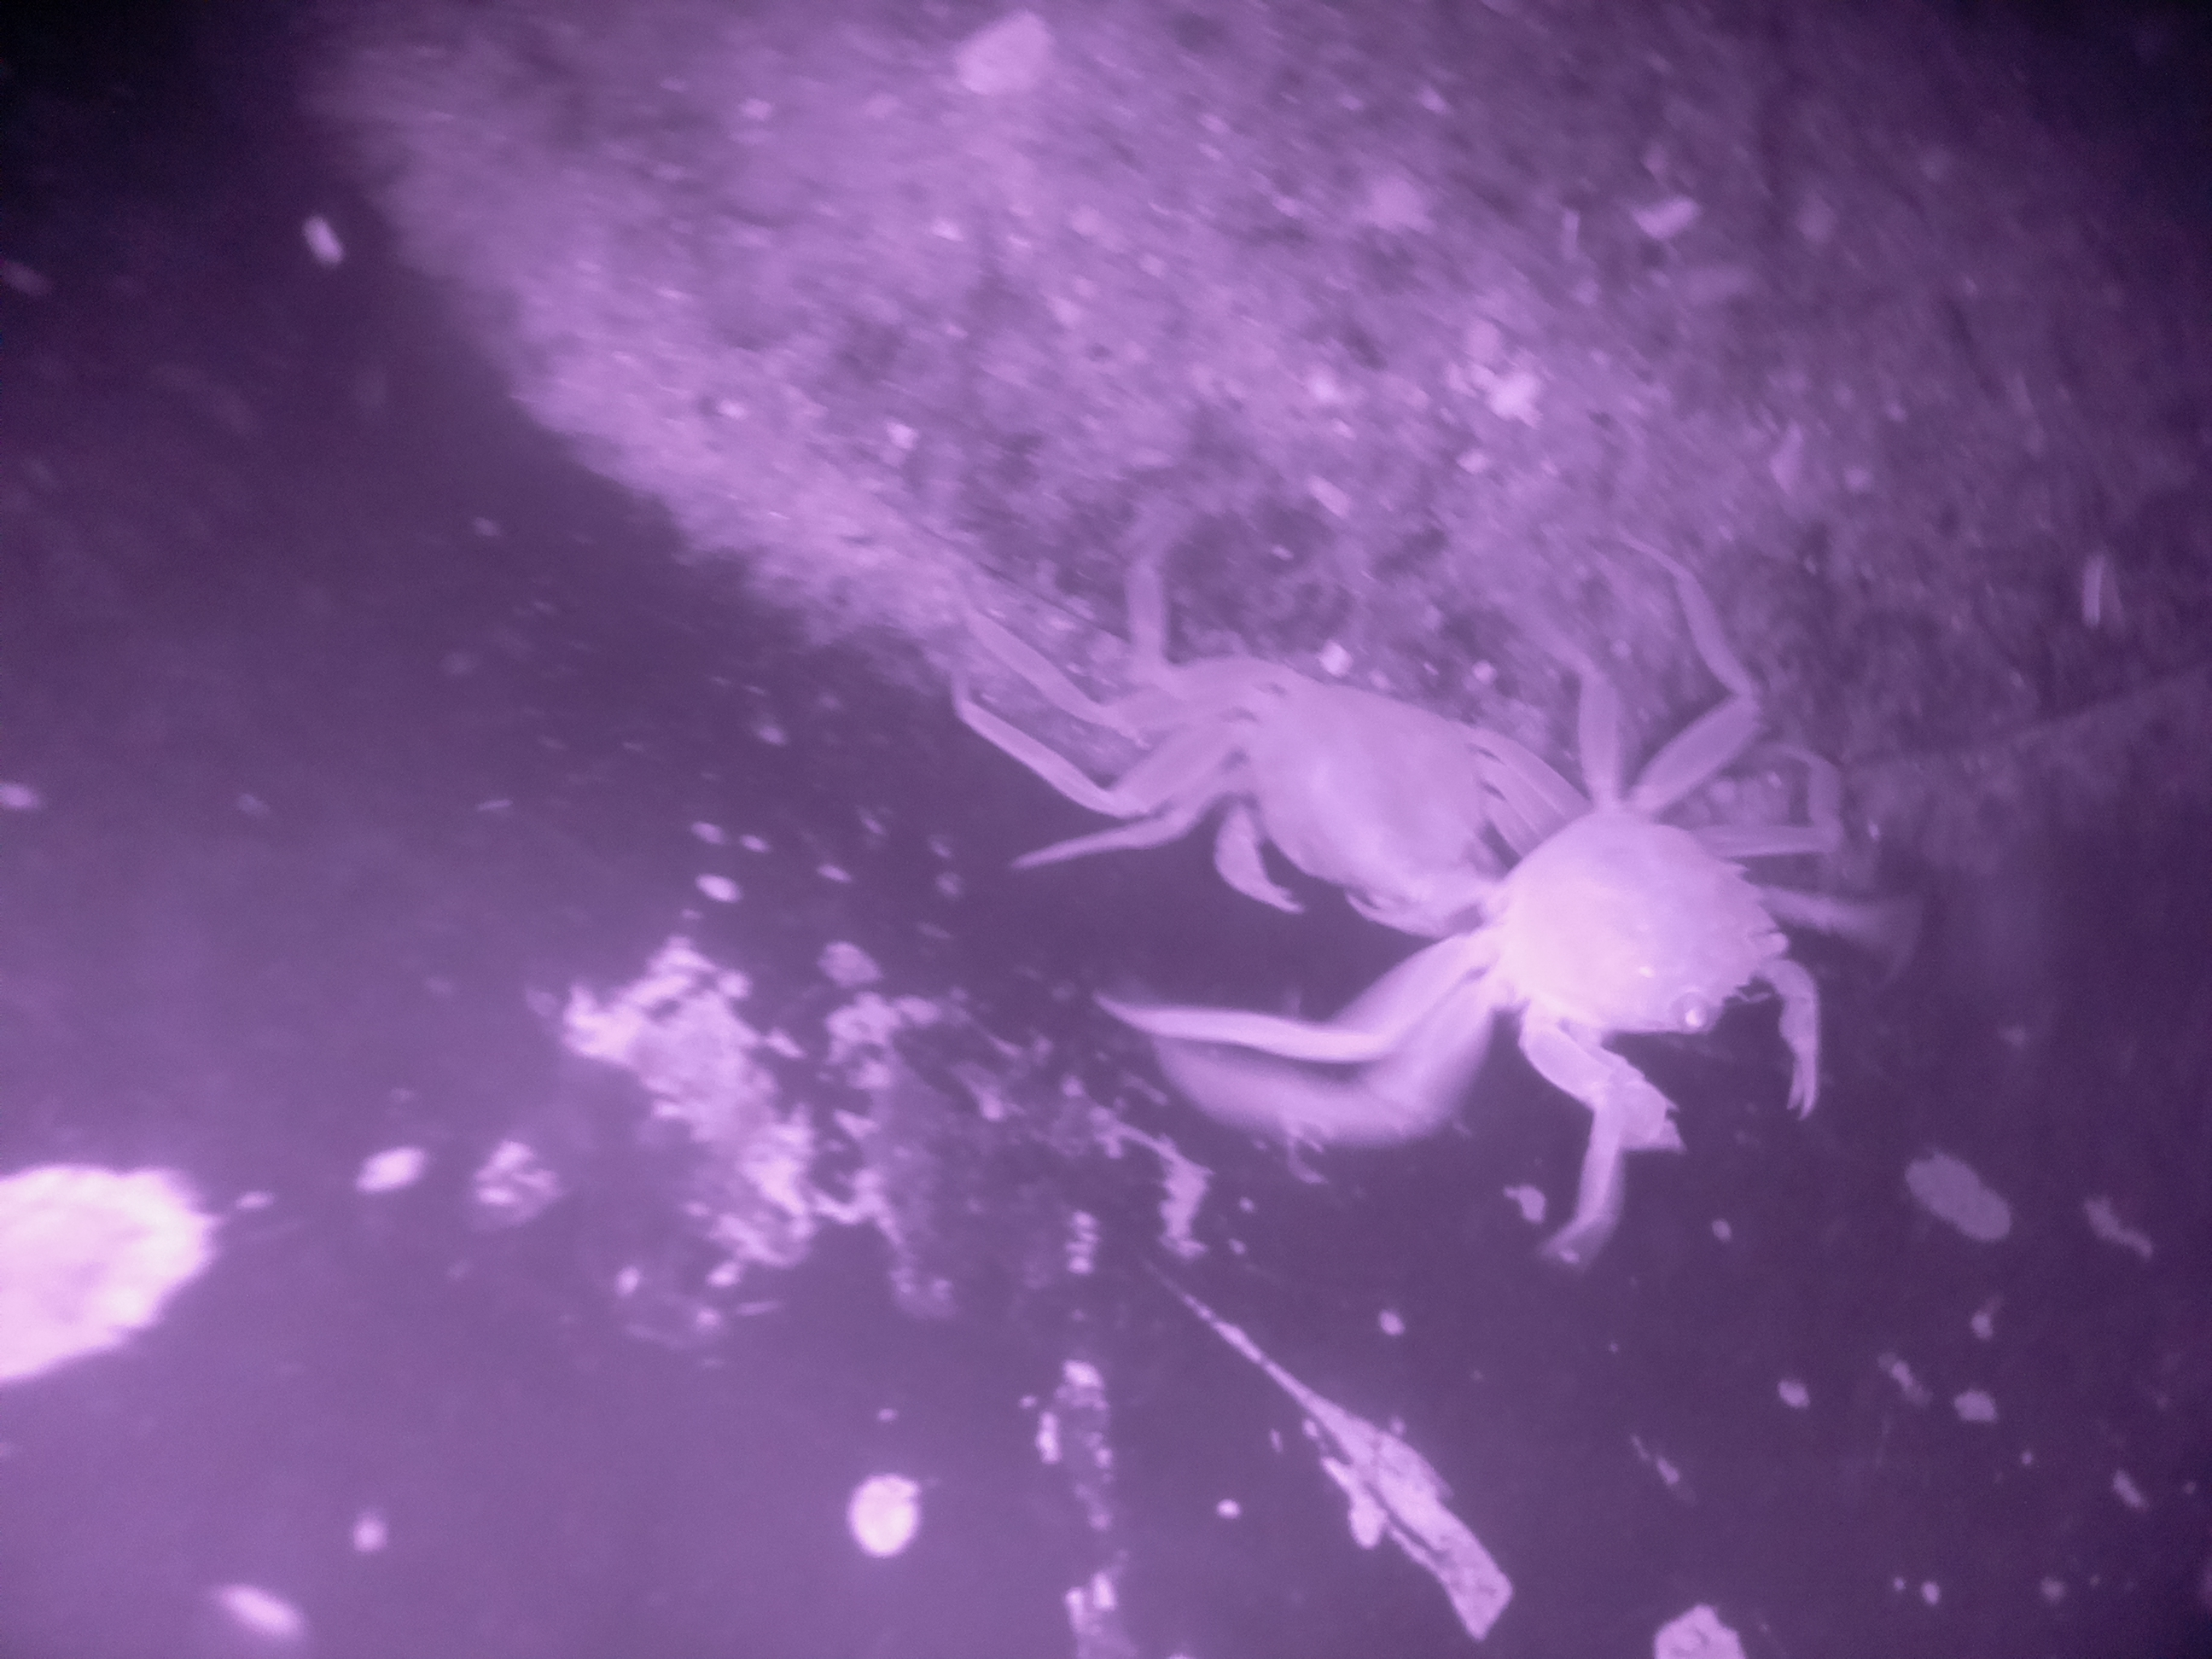Crab: (1388, 685, 1874, 1175), (1136, 538, 1550, 995)
